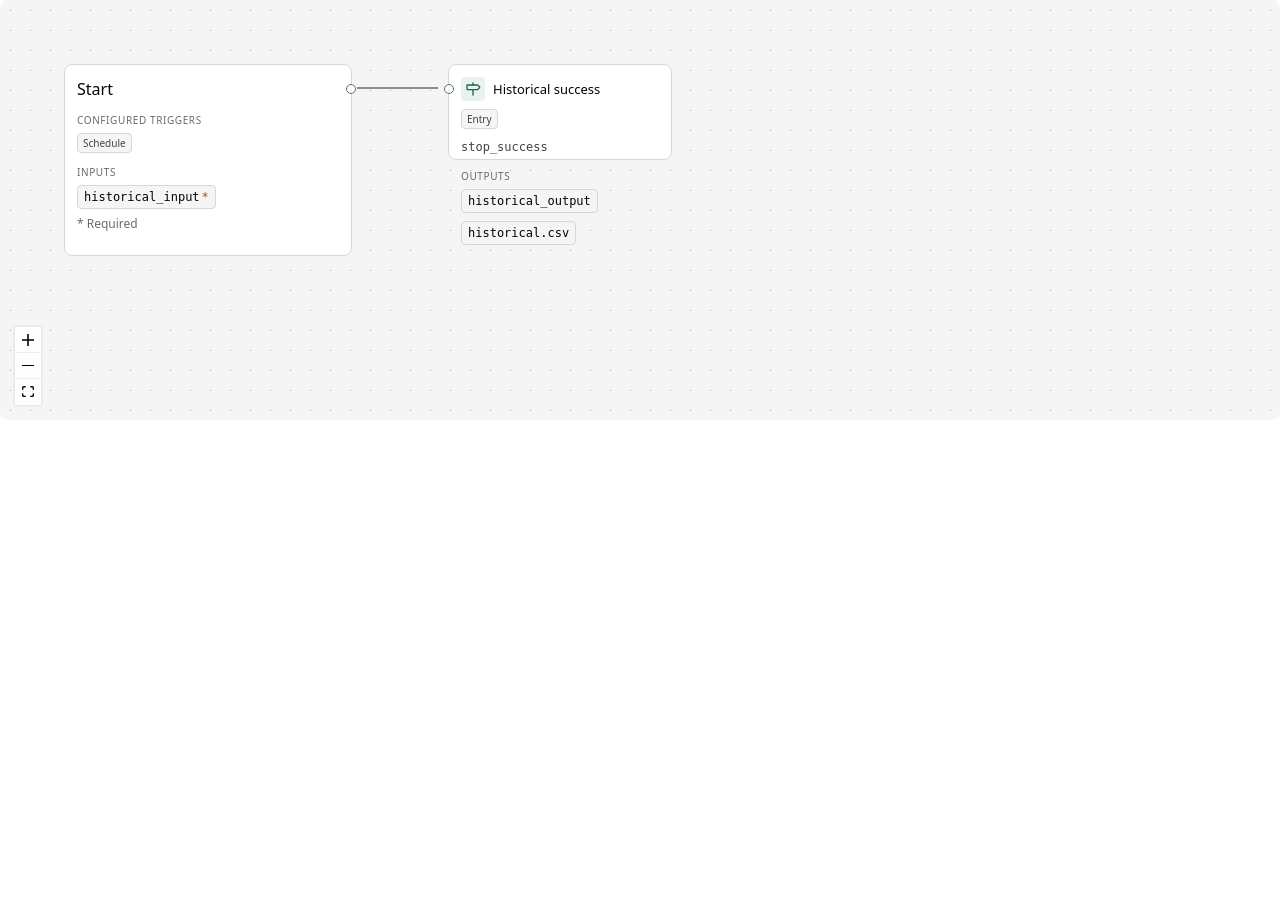
does not disclose arbitrary extra summary data through either cards or the archived drawer
Click the button with aria-label "Start — workflow inputs" at (95, 89), box [77,77,113,101]
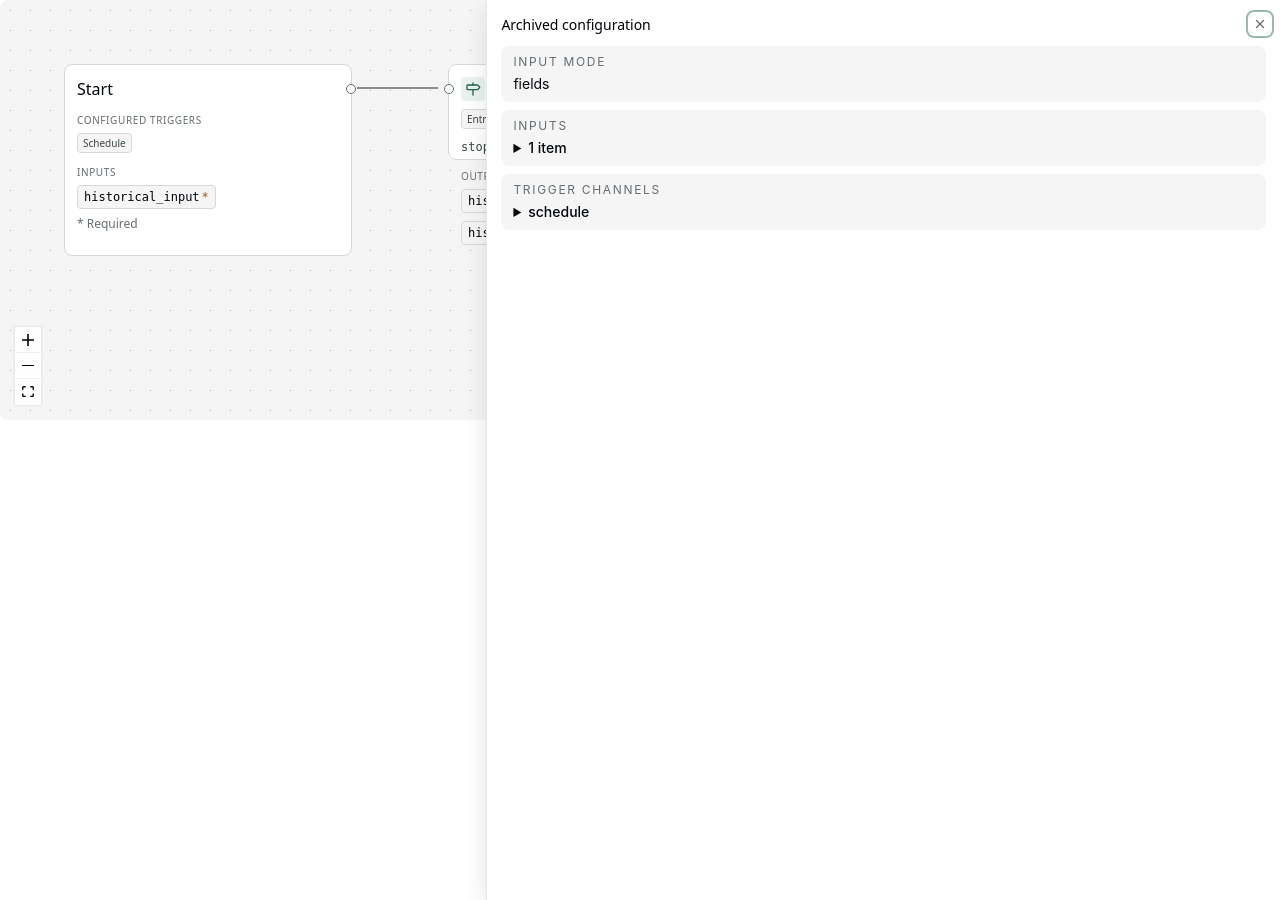
Now the dialog "Archived configuration" is shown
